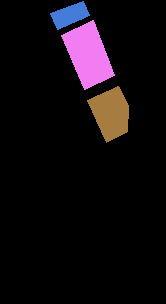parkingspot: (61, 20, 114, 89), (87, 86, 128, 142), (50, 1, 89, 29)
